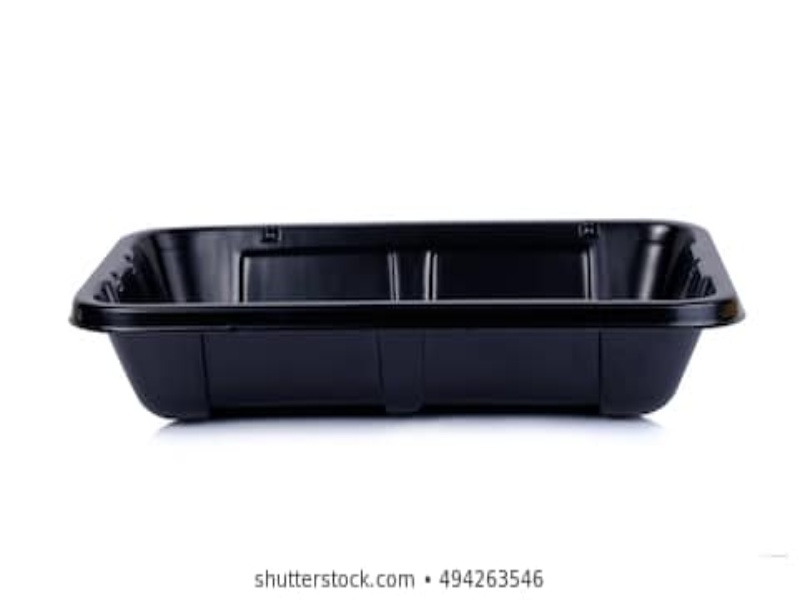plastic-container: (68, 220, 741, 421)
